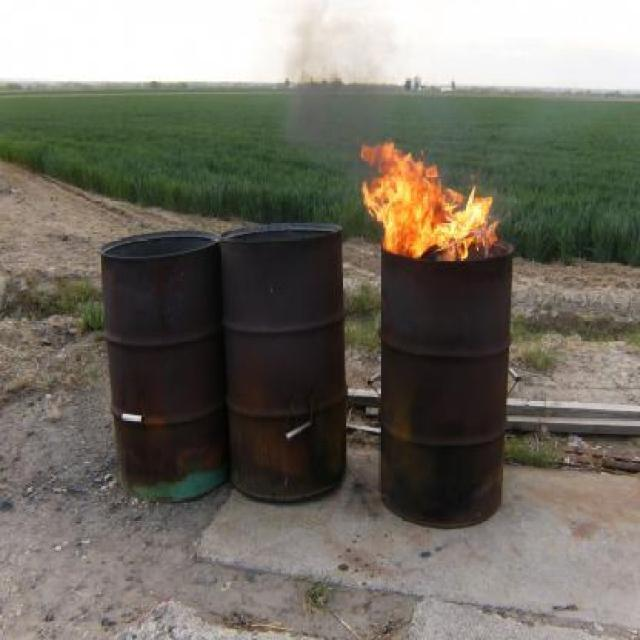Fire: (359, 138, 504, 262)
